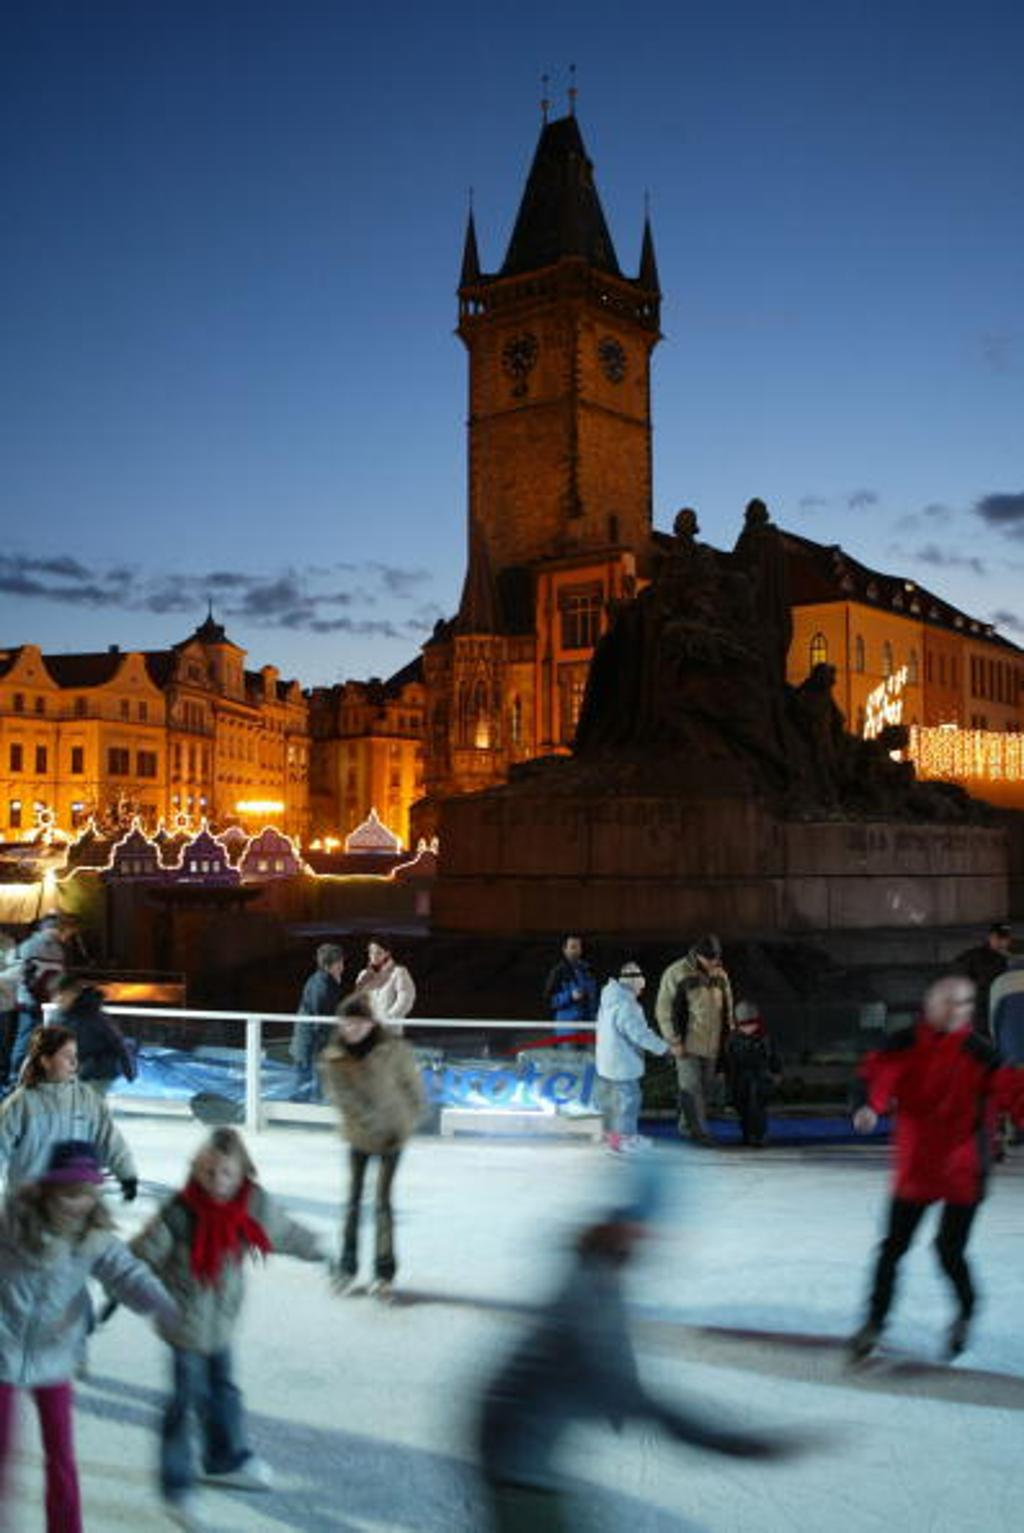face: (932, 985, 969, 1032), (205, 1160, 240, 1204), (58, 1186, 93, 1228), (52, 1045, 78, 1080), (344, 1016, 367, 1044), (51, 985, 76, 1011), (701, 952, 721, 971), (740, 1015, 758, 1034), (993, 935, 1011, 953), (567, 941, 583, 961), (370, 946, 386, 965), (5, 941, 16, 966), (330, 958, 344, 977), (6, 983, 15, 1010), (634, 975, 646, 994), (46, 927, 59, 942)
